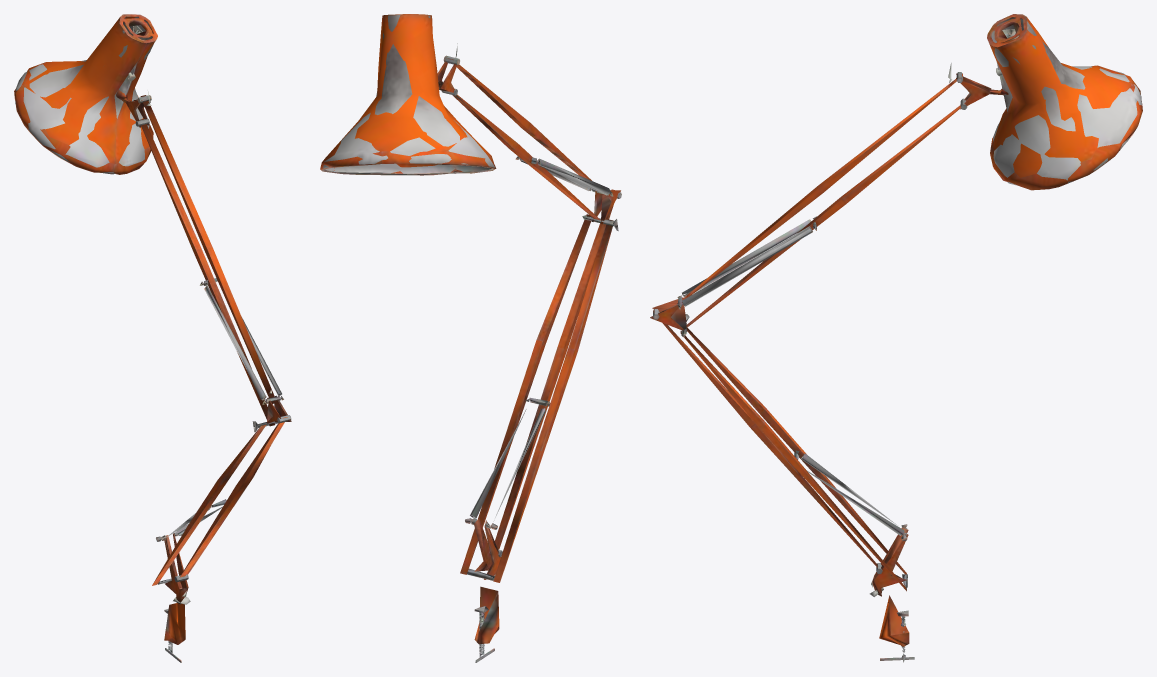
The model's file is desk_lamp_arm_01.glb.
3 views of the same model, side by side, from view 1: azimuth 30°, elevation 25°; view 2: azimuth 150°, elevation 25°; view 3: azimuth 270°, elevation 25° (orthographic). The views are drawn at different scales.
Parts seen in each view (by area): view 1: desk_lamp_arm_01; view 2: desk_lamp_arm_01; view 3: desk_lamp_arm_01.
Part boxes in pixels (x1=…): desk_lamp_arm_01: x1=14, y1=14, x2=291, y2=662; desk_lamp_arm_01: x1=320, y1=14, x2=621, y2=662; desk_lamp_arm_01: x1=650, y1=14, x2=1142, y2=662.
Bounding box in the file's own units: 0.2017 × 0.8926 × 0.6132.
Materials: 2 (2 with a texture image).
